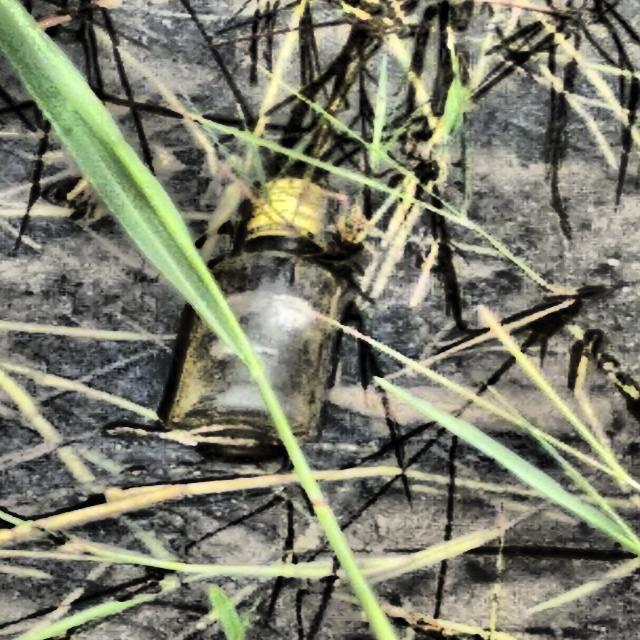anorganik: (169, 176, 350, 465)
